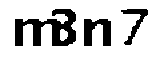3: (57, 8, 79, 48)
7: (119, 4, 149, 48)
m: (9, 18, 61, 52)
n: (81, 16, 114, 55)
